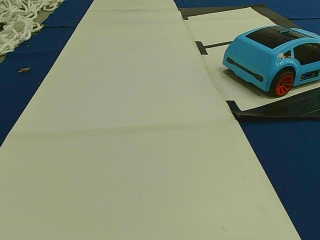car: (220, 24, 320, 97)
